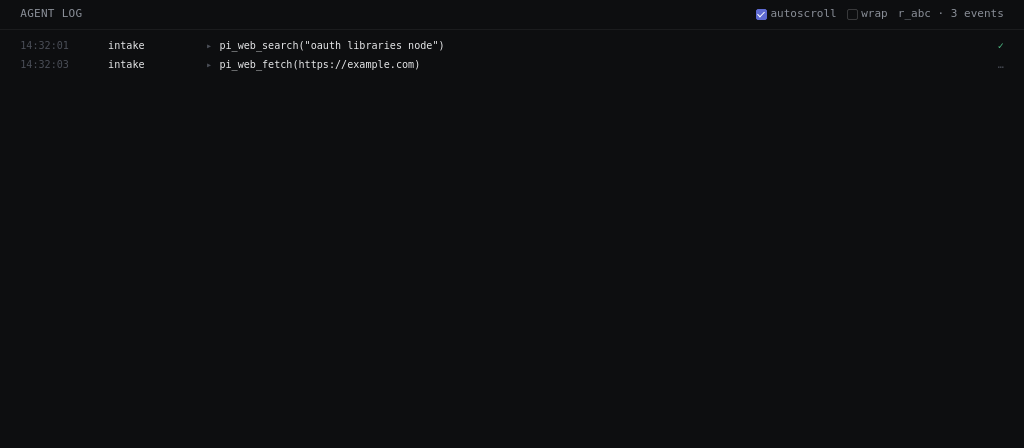
Test case: AgentLog › renders web search and fetch activity with expandable details
Check: the text "pi_web_fetch(https://example.com)" is shown, box [219,59,420,70]
Click the text "pi_web_search(\"oauth libraries node\")" at [332, 46], box [219,40,445,51]
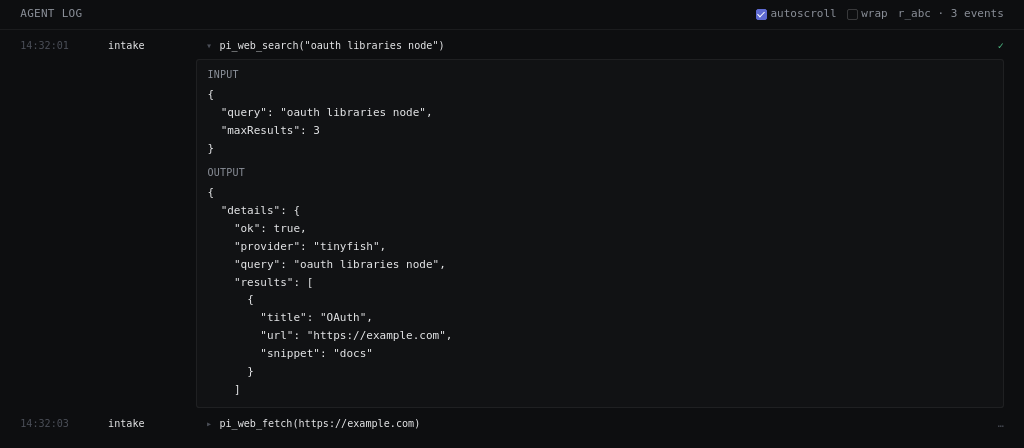
Check: the text "tinyfish" is shown, box [207,186,452,432]
